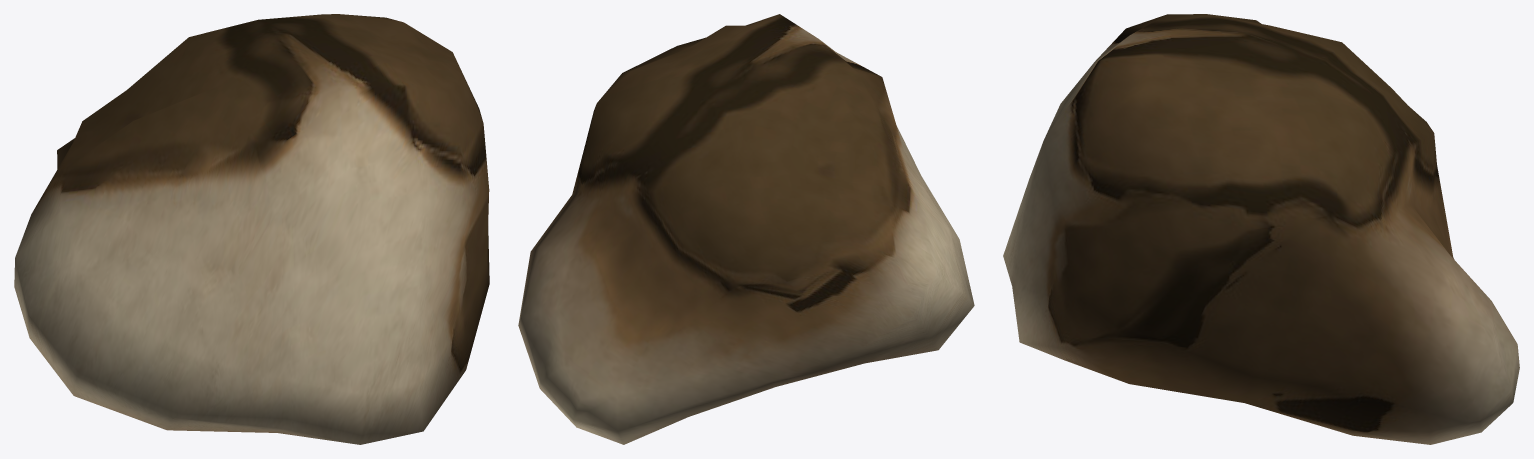
Rendered from Distal_Carpal_IV.glb.
3 renders of one model, left to right at view 1: azimuth 30°, elevation 25°; view 2: azimuth 150°, elevation 25°; view 3: azimuth 270°, elevation 25°, orthographic. The views are drawn at different scales.
Parts seen in each view (by area): view 1: Distal_Carpal_IV_Right1:Distal_Carpal_IV_Right; view 2: Distal_Carpal_IV_Right1:Distal_Carpal_IV_Right; view 3: Distal_Carpal_IV_Right1:Distal_Carpal_IV_Right.
Part boxes in pixels (x1,y1,x2,y2): Distal_Carpal_IV_Right1:Distal_Carpal_IV_Right: [14, 14, 489, 444]; Distal_Carpal_IV_Right1:Distal_Carpal_IV_Right: [518, 14, 974, 444]; Distal_Carpal_IV_Right1:Distal_Carpal_IV_Right: [1003, 14, 1519, 444].
Size of the model in its own units: 12.29 by 10.18 by 13.01.
1 material, 1 textured.
